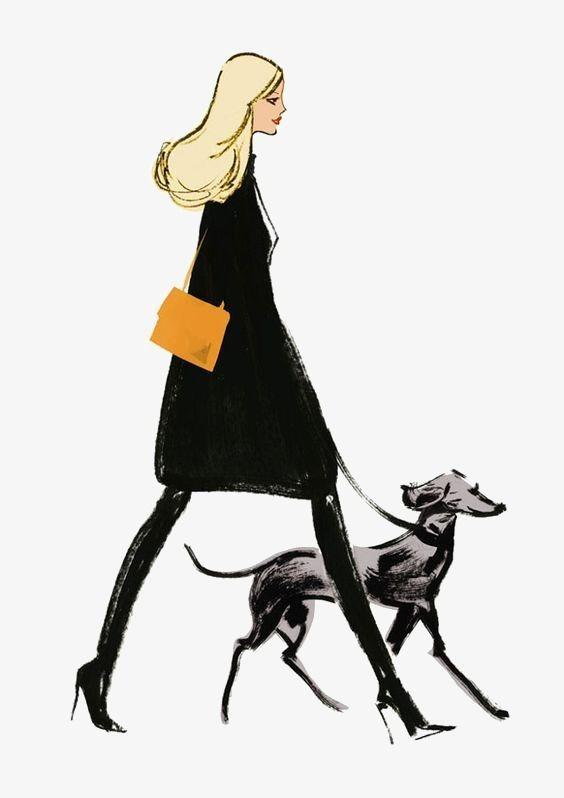adult_dog: (176, 466, 516, 727)
non-dog: (67, 49, 458, 747)
